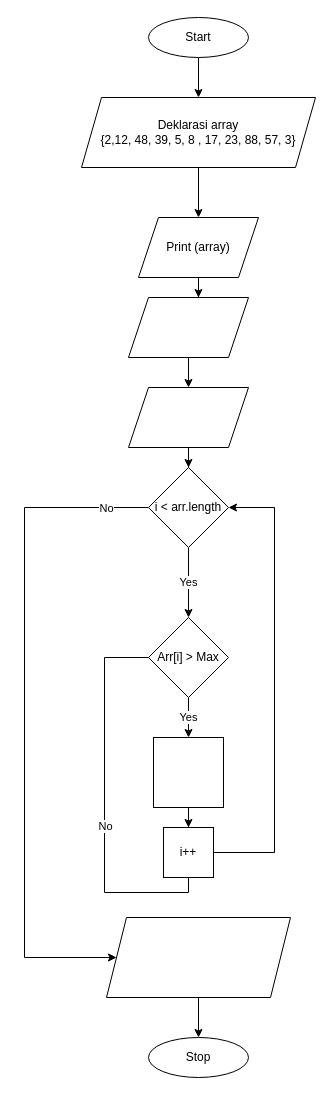
This 333x1095 diagram has some shape labels left out. Here are the shapes that lost their labels. From the top down, the centre of each, then its label:
pixel 188 327: Deklarasi Max = arr[0]
pixel 188 417: i = 0
pixel 188 772: Max = Arr[i]
pixel 198 957: Print ("\nBilangan yang terbesar adalah : " + max
